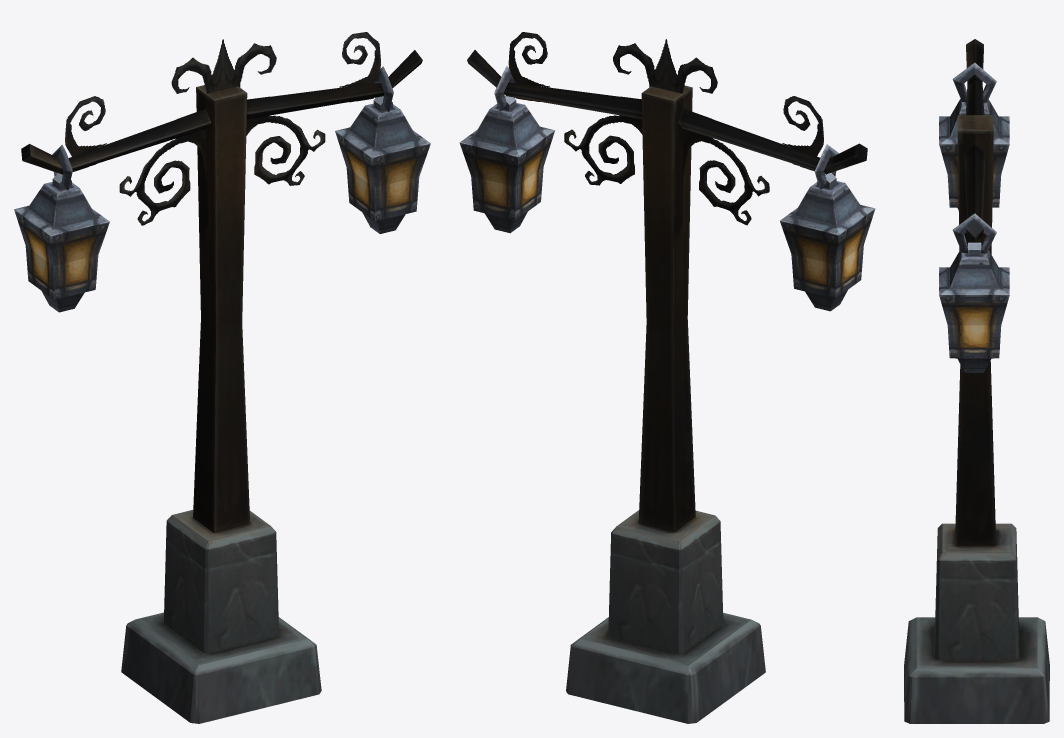
File: object_lampposts07.fbx
The picture shows the model from 3 angles, left to right: view 1: azimuth 30°, elevation 25°; view 2: azimuth 150°, elevation 25°; view 3: azimuth 270°, elevation 25°; orthographic projection. The views are drawn at different scales.
Visible parts, largest first — view 1: obj1.015; view 2: obj1.015; view 3: obj1.015.
Part boxes in pixels (x1,y1,x2,y2): obj1.015: (14, 32, 430, 723); obj1.015: (459, 32, 875, 723); obj1.015: (904, 39, 1049, 723).
Bounding box in the file's own units: 3.05 × 4.71 × 1.
